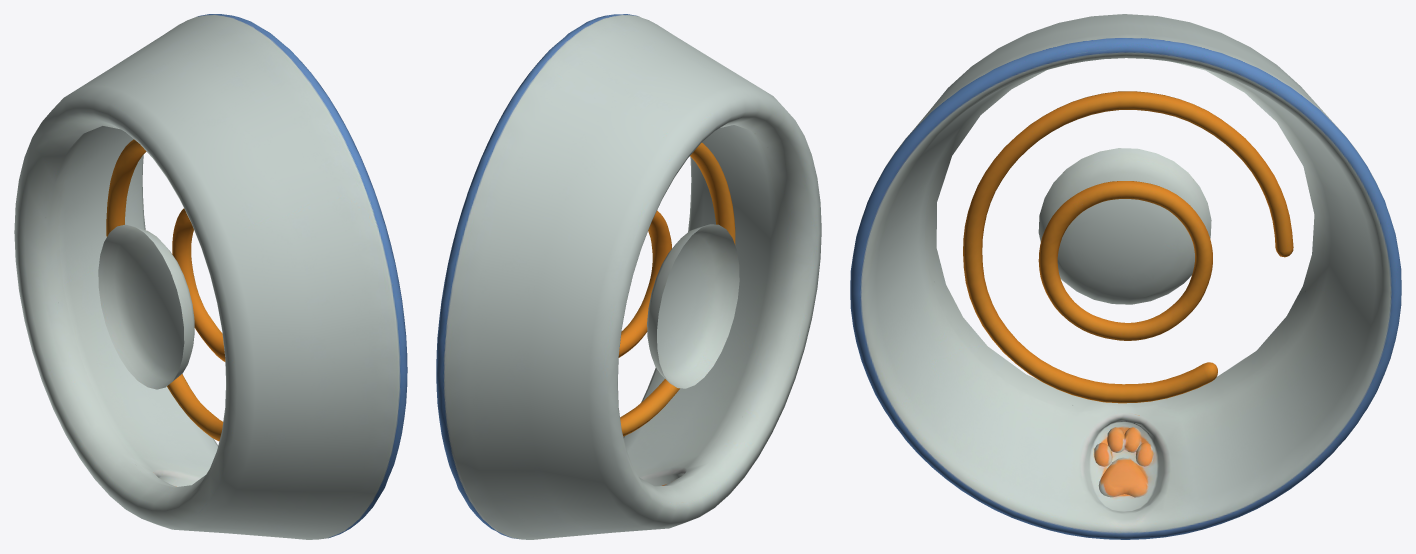
Rendered from sugar-thread-paw.glb.
3 views of the same model, side by side, from view 1: azimuth 30°, elevation 25°; view 2: azimuth 150°, elevation 25°; view 3: azimuth 270°, elevation 25° (orthographic). The views are drawn at different scales.
Visible parts, largest first — view 1: tripo_node_2894cac1-433e-40c0-95d6-c9157484df58; view 2: tripo_node_2894cac1-433e-40c0-95d6-c9157484df58; view 3: tripo_node_2894cac1-433e-40c0-95d6-c9157484df58.
Part boxes in pixels (x1,y1,x2,y2): tripo_node_2894cac1-433e-40c0-95d6-c9157484df58: (14, 14, 407, 539); tripo_node_2894cac1-433e-40c0-95d6-c9157484df58: (436, 14, 821, 539); tripo_node_2894cac1-433e-40c0-95d6-c9157484df58: (850, 14, 1401, 539).
Bounding box in the file's own units: 0.3357 × 0.9995 × 0.9995.
Materials: 1 (1 with a texture image).
